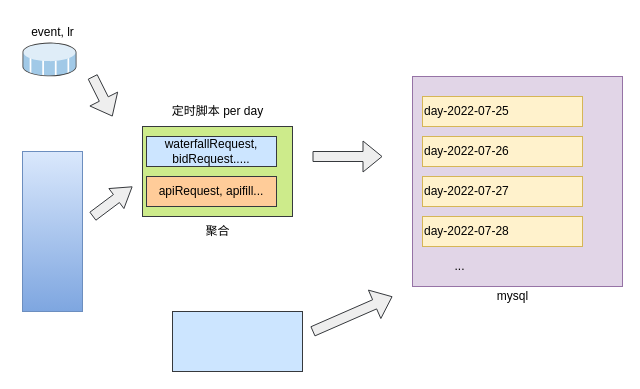
Image size: 640x389. Some labels were removed from this diagram. The shapes that lost their labels are listed below. From the top down, each one's box as (x1, y1, x2, y2) in pixels, then its label:
(22, 42, 76, 76): e s
(22, 150, 82, 312): 广告源statics facebook admob ...
(172, 310, 302, 372): dashboard
